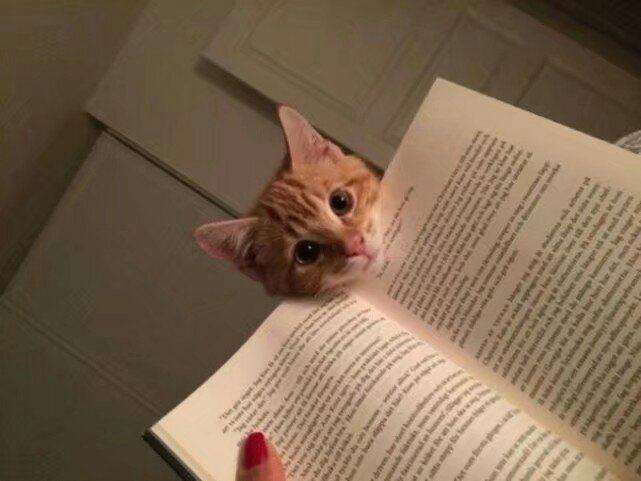cat: (194, 102, 389, 302)
